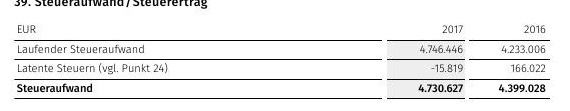table: (0, 0, 570, 111)
